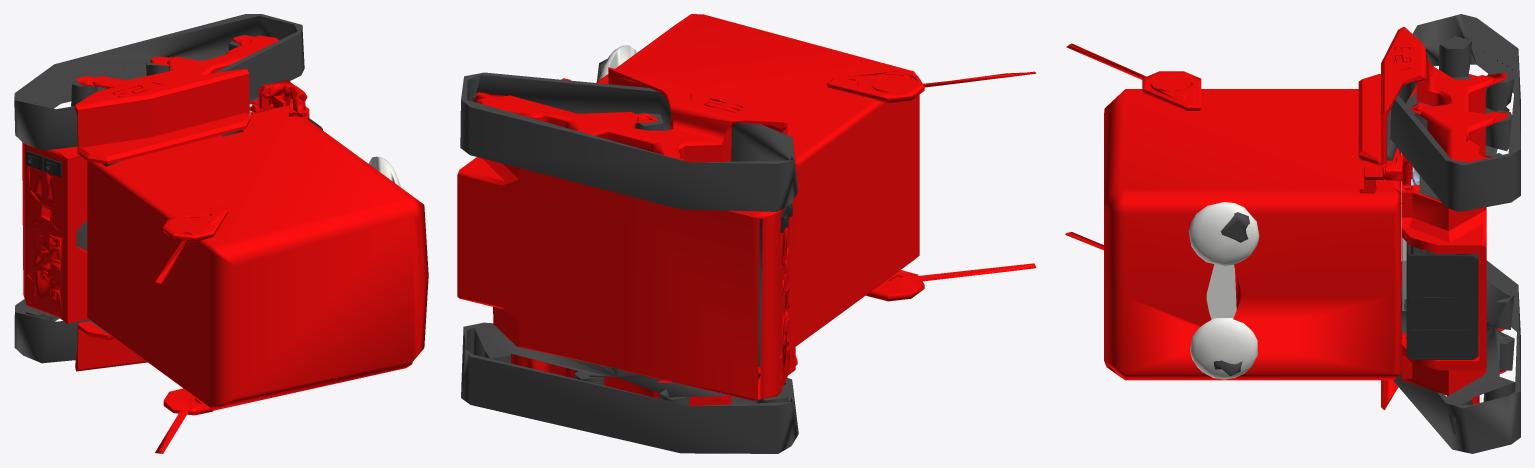
The model's file is model-lite.lod1.glb.
The picture shows the model from 3 angles, left to right: view 1: azimuth 30°, elevation 25°; view 2: azimuth 150°, elevation 25°; view 3: azimuth 270°, elevation 25°; orthographic projection. The views are drawn at different scales.
Parts seen in each view (by area): view 1: fridgelink, metalsiding-right, Body1:3, Fridgedoor; view 2: fridgelink, metalsiding-right; view 3: fridgelink, metalsiding-right, Body1, Fridgedoor.
Part boxes in pixels (x1,y1,x2,y2): fridgelink: [22, 35, 428, 453]; metalsiding-right: [14, 14, 304, 363]; Body1:3: [26, 150, 61, 177]; Fridgedoor: [368, 156, 400, 187]; fridgelink: [457, 14, 1036, 405]; metalsiding-right: [460, 58, 798, 453]; fridgelink: [1065, 26, 1509, 409]; metalsiding-right: [1213, 14, 1520, 453]; Body1: [1406, 242, 1478, 359]; Fridgedoor: [1188, 202, 1259, 379].
Bounding box in the file's own units: 35.79 × 28.38 × 39.28.
